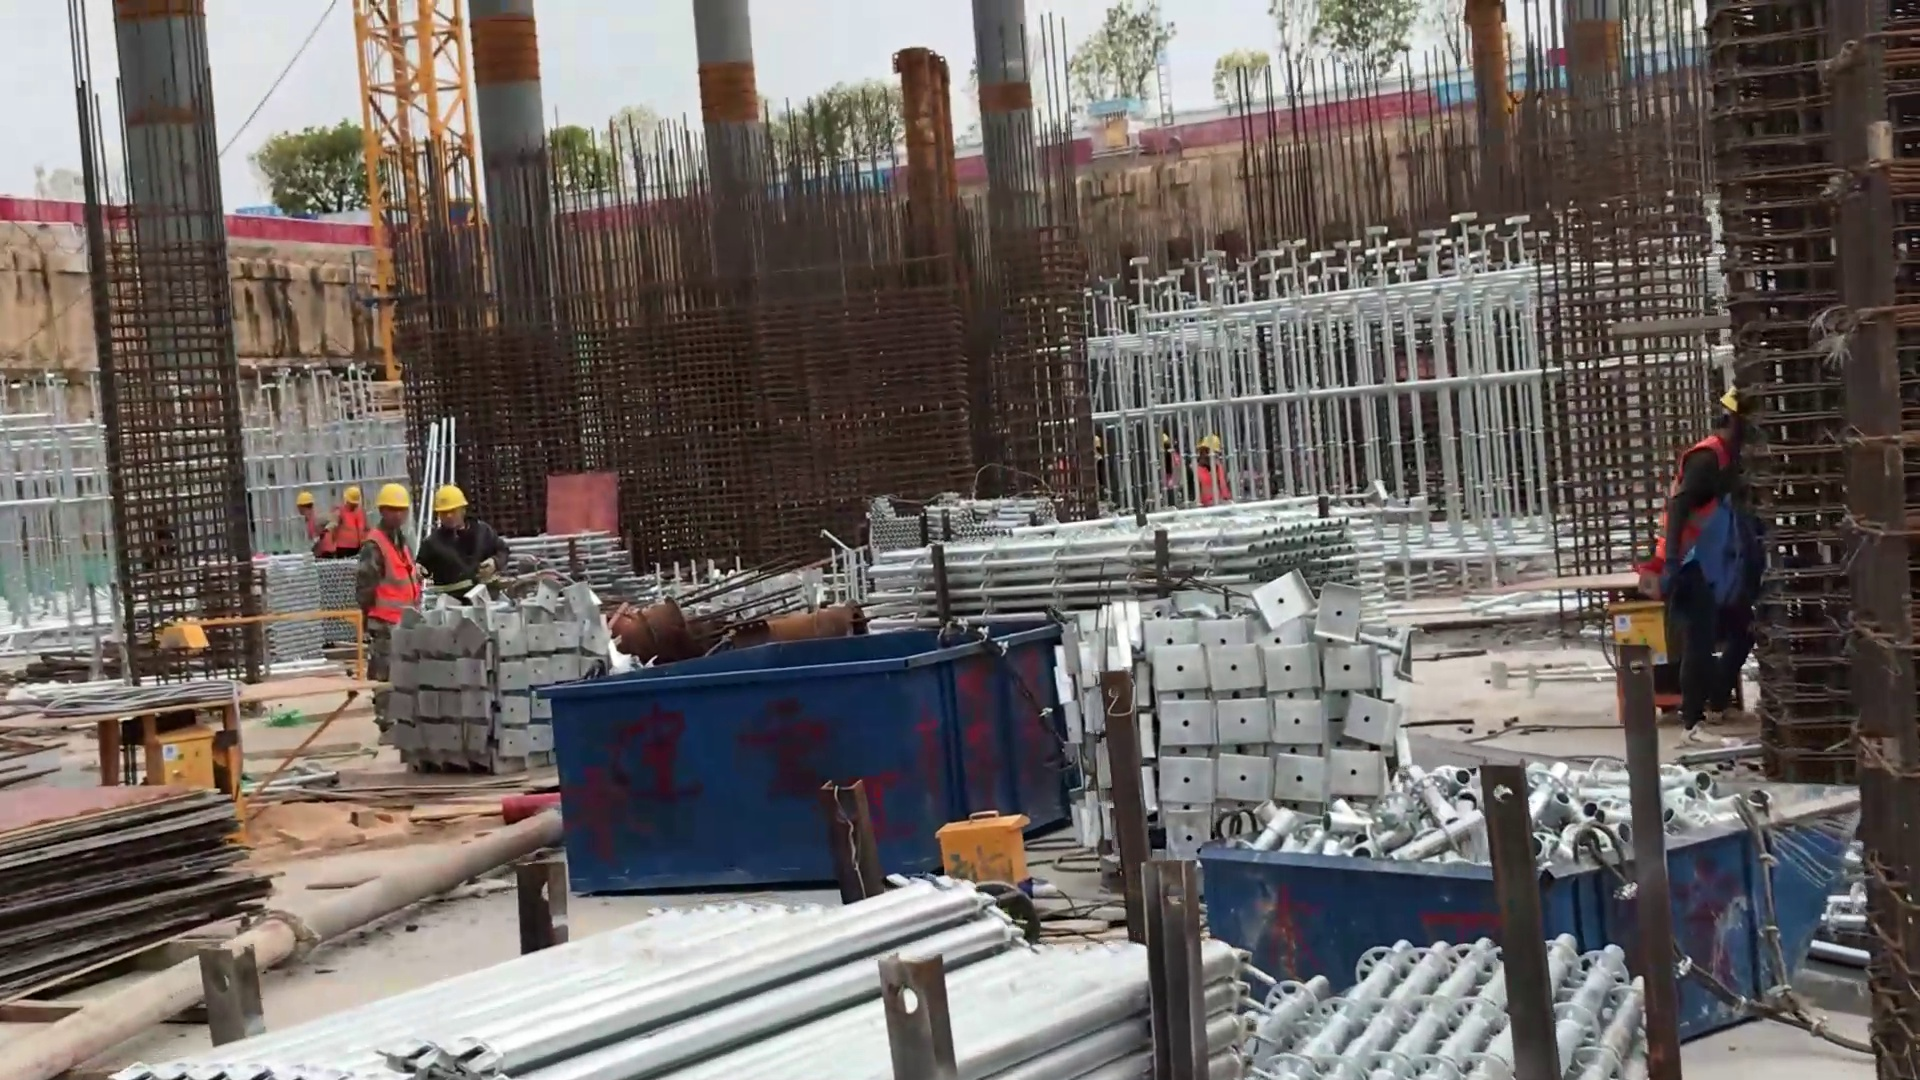board: (3, 777, 308, 1032)
ebox: (96, 686, 255, 787), (929, 806, 1038, 901)
helmet: (424, 485, 470, 515), (372, 485, 414, 510), (1721, 385, 1741, 418), (296, 491, 321, 511), (340, 483, 365, 503), (1196, 435, 1221, 453)
hopper: (1197, 723, 1878, 1061), (527, 615, 1078, 906)
person: (1644, 392, 1763, 692), (420, 477, 519, 593), (366, 480, 428, 637), (285, 484, 329, 561), (329, 484, 363, 560)
scaffold: (861, 475, 1419, 617), (1242, 916, 1654, 1080)
vest: (1659, 439, 1722, 568), (365, 532, 421, 623), (1195, 463, 1229, 502), (335, 507, 361, 555)
